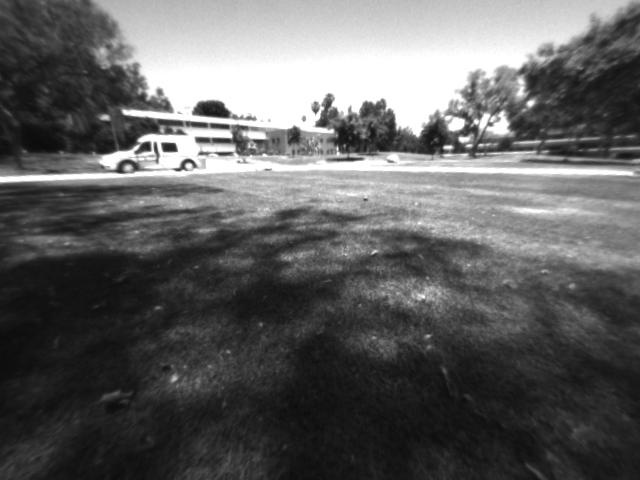dogtoy: (356, 191, 375, 203)
